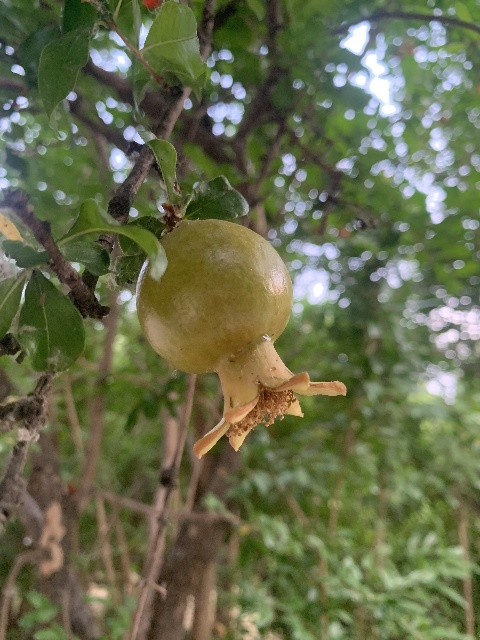mid-growth: (135, 218, 347, 461)
